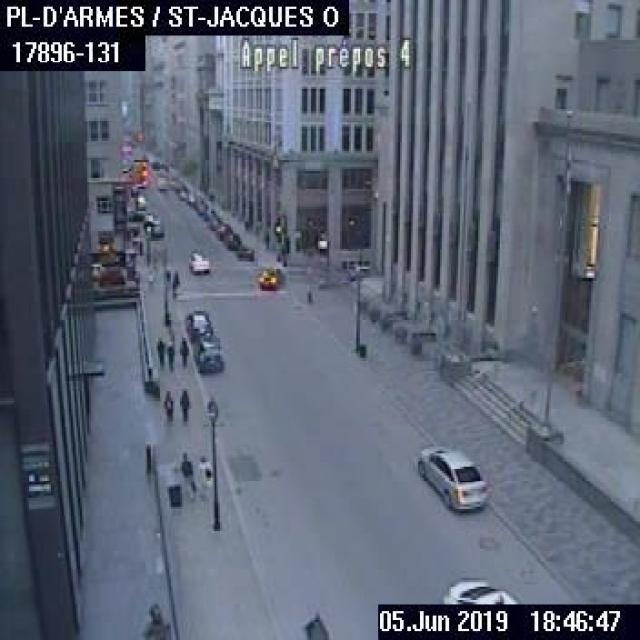pedestrian: (178, 451, 195, 496), (194, 453, 210, 495), (178, 386, 189, 424), (162, 389, 173, 424), (178, 334, 188, 367), (155, 333, 164, 368), (170, 268, 178, 298), (165, 339, 173, 369), (280, 251, 286, 271), (274, 249, 280, 264)
vehicle: (414, 440, 488, 511), (440, 574, 520, 604), (193, 332, 221, 370), (183, 308, 211, 340), (256, 264, 284, 289), (186, 249, 209, 273), (347, 262, 367, 278), (236, 243, 254, 259), (147, 217, 162, 235), (216, 219, 230, 237), (208, 212, 222, 228), (226, 231, 239, 248), (202, 206, 214, 220), (142, 212, 153, 227), (196, 197, 207, 212), (135, 193, 144, 208)
